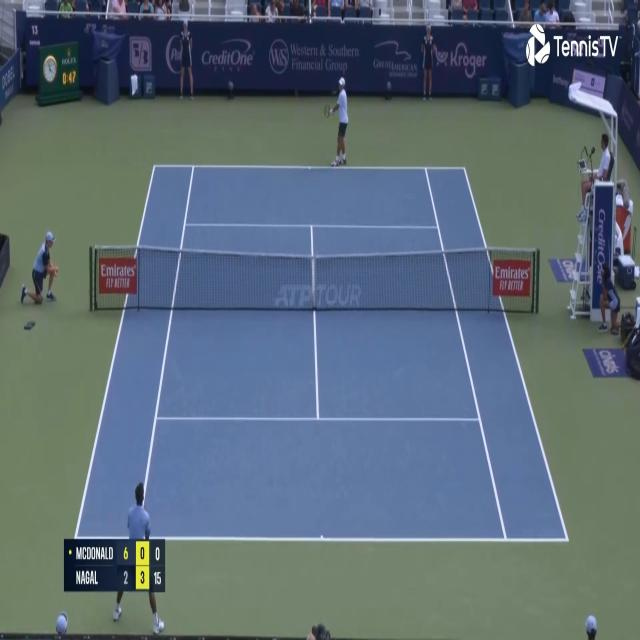tennis-player: (112, 478, 166, 634), (322, 74, 351, 170)
